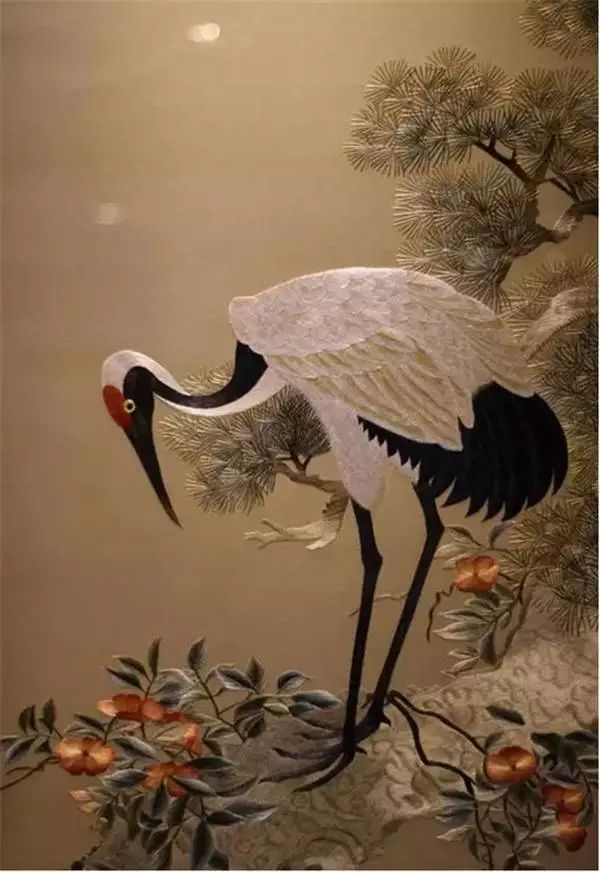crane: (98, 261, 572, 788)
